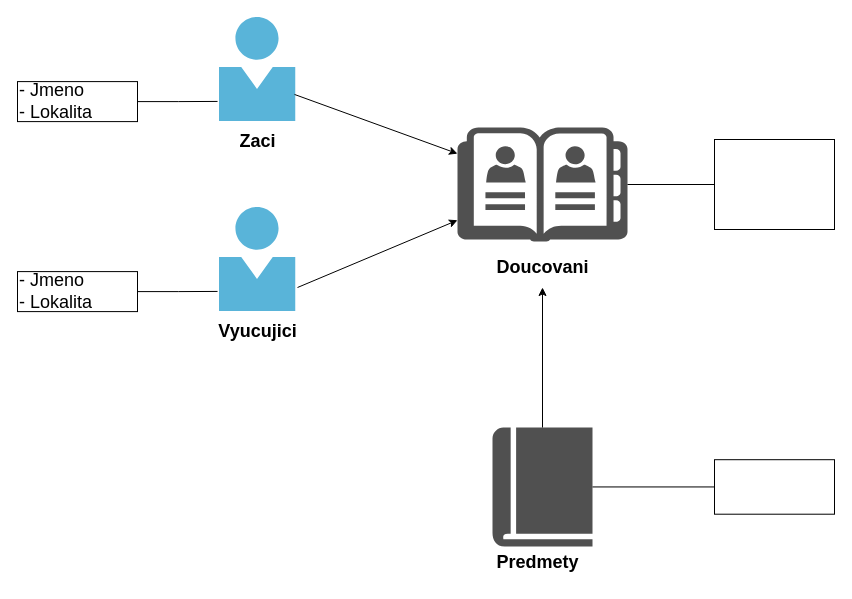
This 852x599 diagram has some shape labels left out. The centre of each missing label's shape, as x and y in pixels:
- Datum - Popis - Ukol - Poznamka: the point at 774,184
- Predmet - Osnova: the point at 774,486
